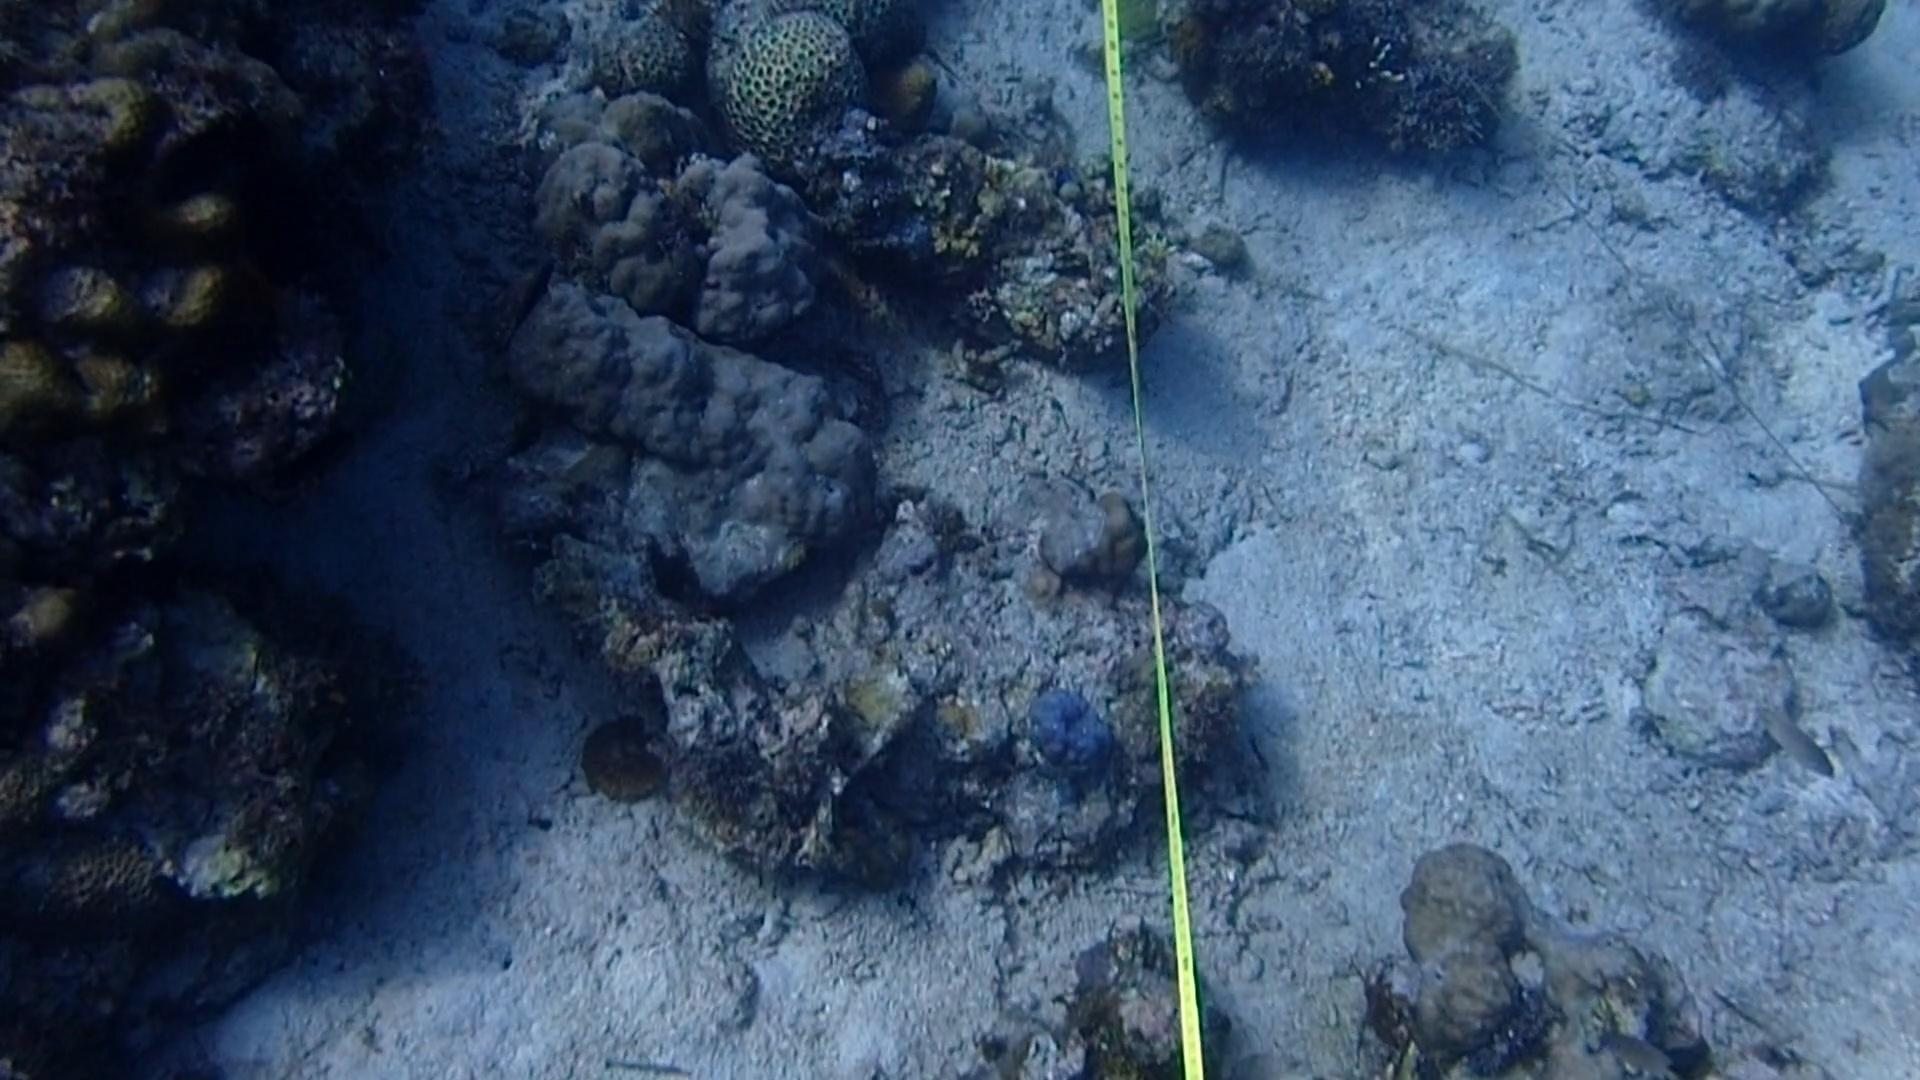Dark Fish: (133, 105, 287, 210), (138, 303, 284, 404), (133, 858, 235, 943), (496, 256, 558, 351)
Light Fish: (1730, 688, 1841, 789)
